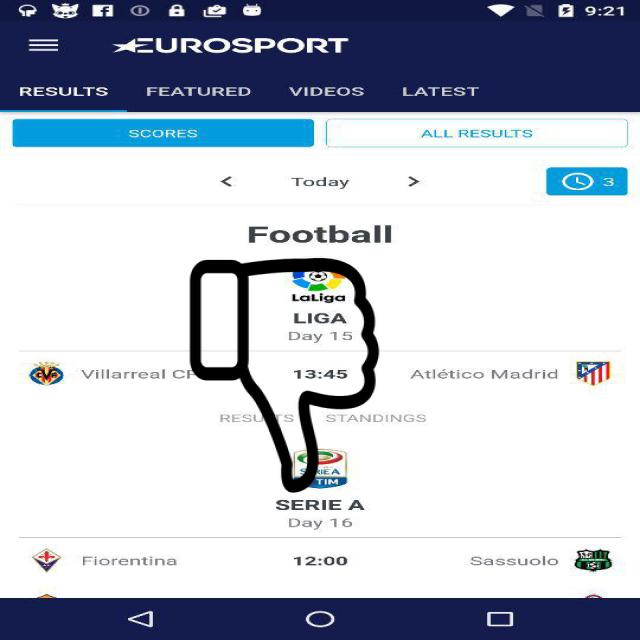obstruction: (187, 258, 382, 493)
